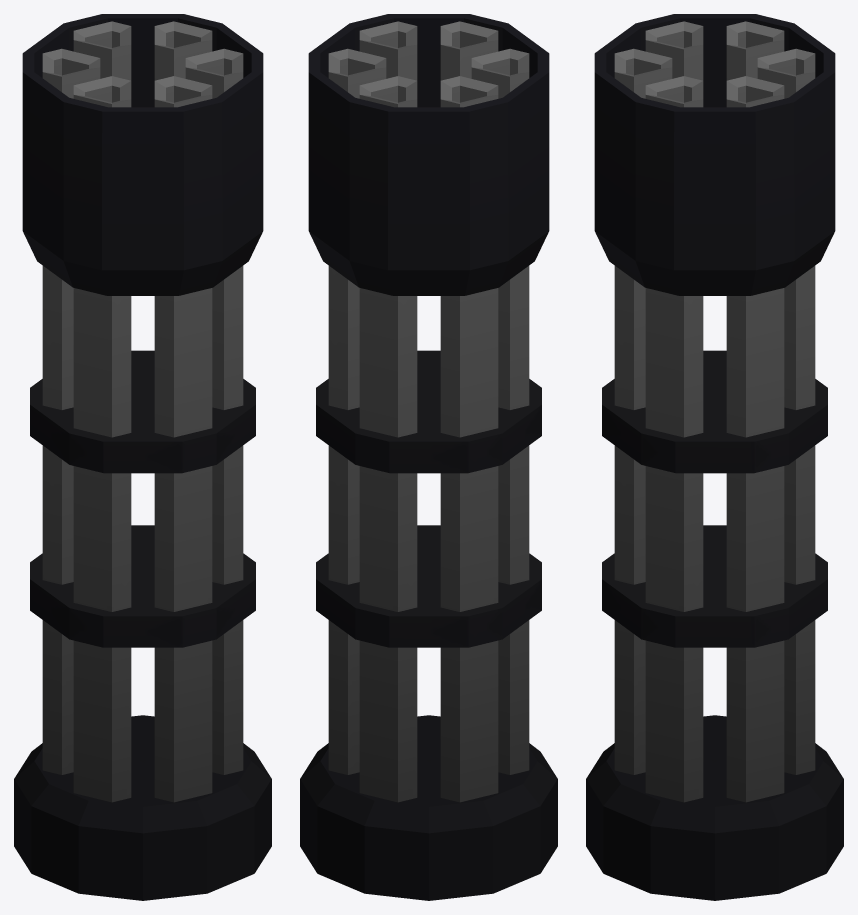
Rendered from Turret MK4 Machine Gun.glb.
The picture shows the model from 3 angles, left to right: view 1: azimuth 30°, elevation 25°; view 2: azimuth 150°, elevation 25°; view 3: azimuth 270°, elevation 25°; orthographic projection.
Parts seen in each view (by area): view 1: MK_4_Machine_Gun_Weapon; view 2: MK_4_Machine_Gun_Weapon; view 3: MK_4_Machine_Gun_Weapon.
Part boxes in pixels (x1=…): MK_4_Machine_Gun_Weapon: x1=14, y1=14, x2=271, y2=900; MK_4_Machine_Gun_Weapon: x1=300, y1=14, x2=557, y2=900; MK_4_Machine_Gun_Weapon: x1=586, y1=14, x2=843, y2=900.
Bounding box in the file's own units: 0.2229 × 0.7478 × 0.2229.
Materials: 1 (1 with a texture image).
